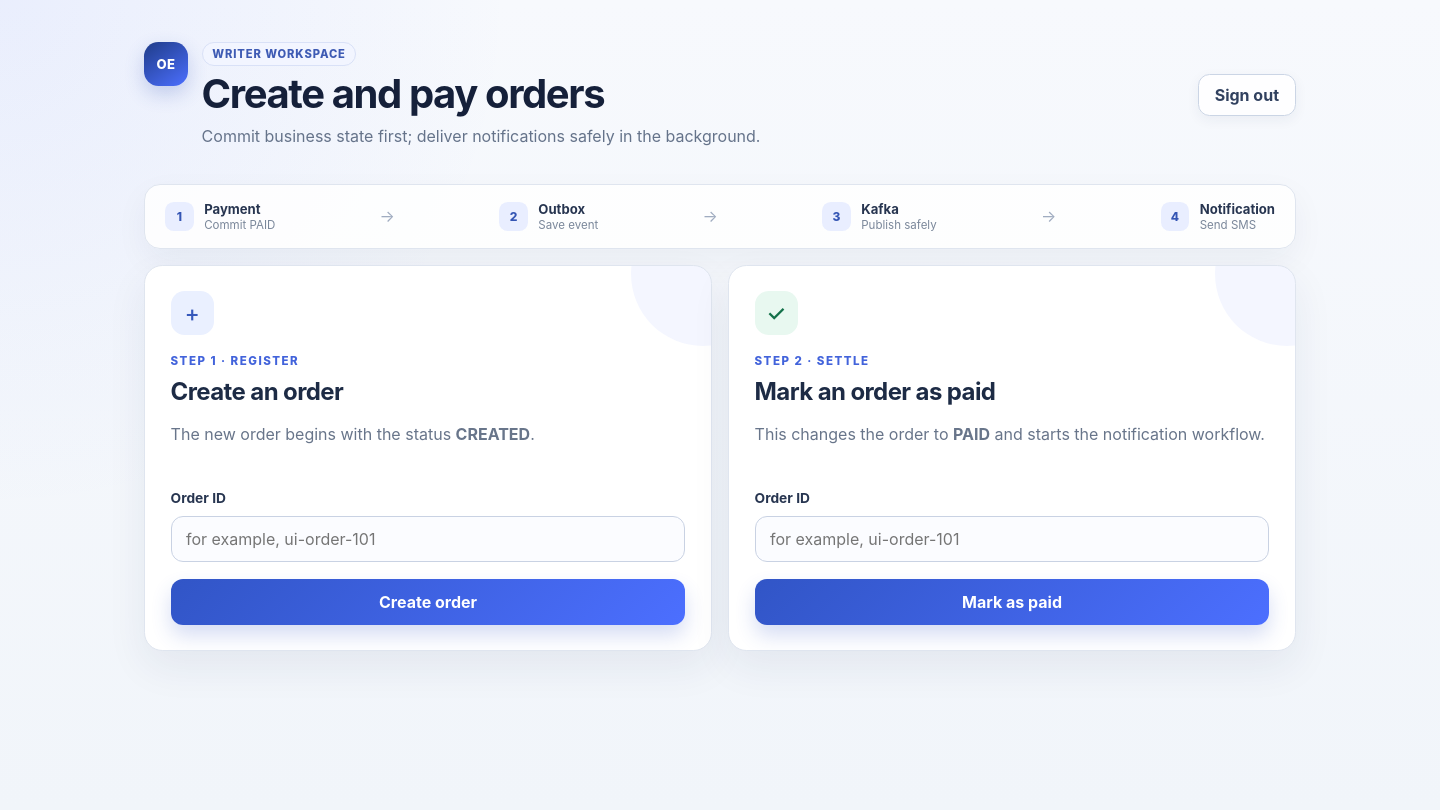
Test case: WriterWorkspace › marks an order as paid and explains that notification is asynchronous
This screenshot has width=1440, height=810.
In the field labelled "Order ID" below "This changes the order to": (1012,539) [755,516,1269,562], type "writer-order-101"
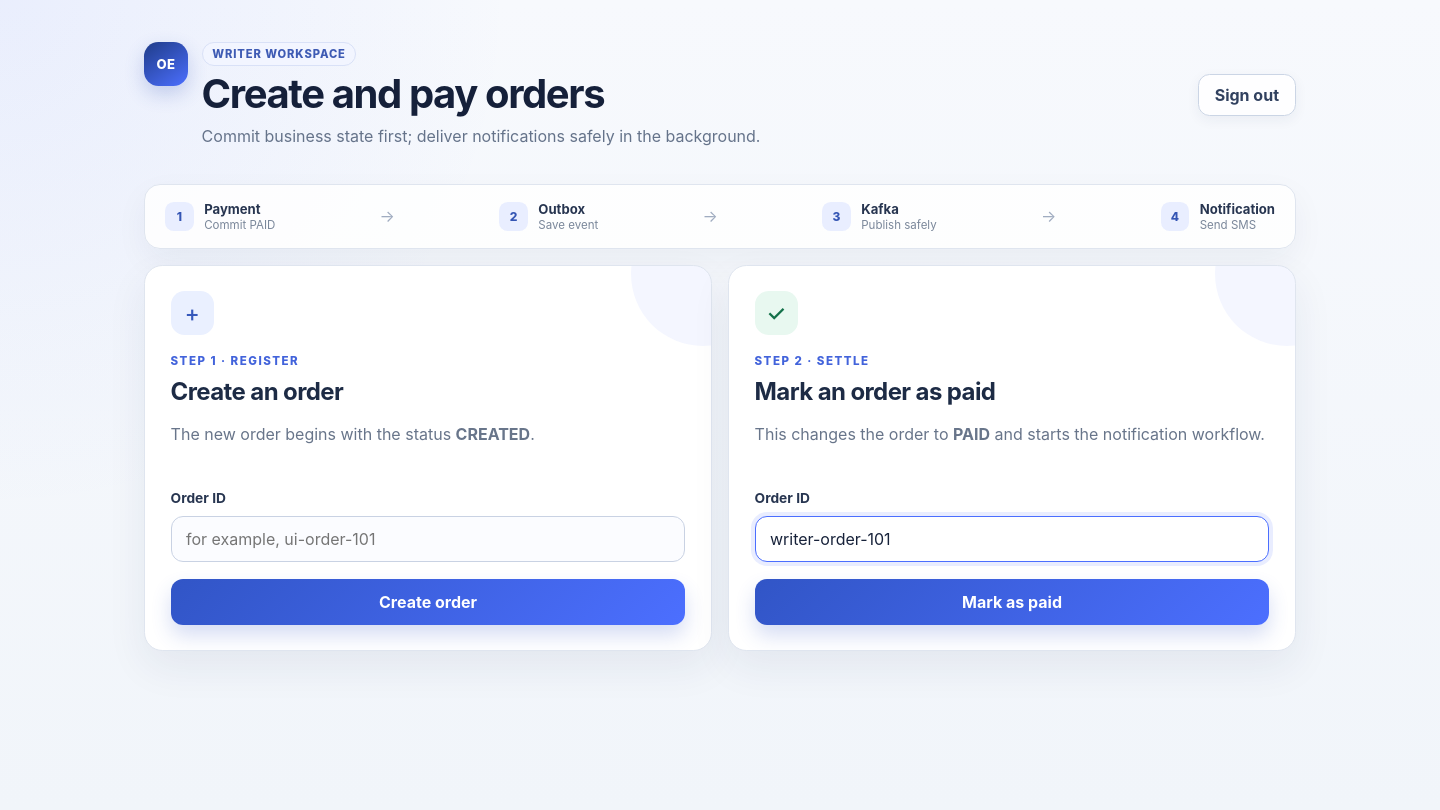
Click the button "Mark as paid": (1012,602) [755,579,1269,625]
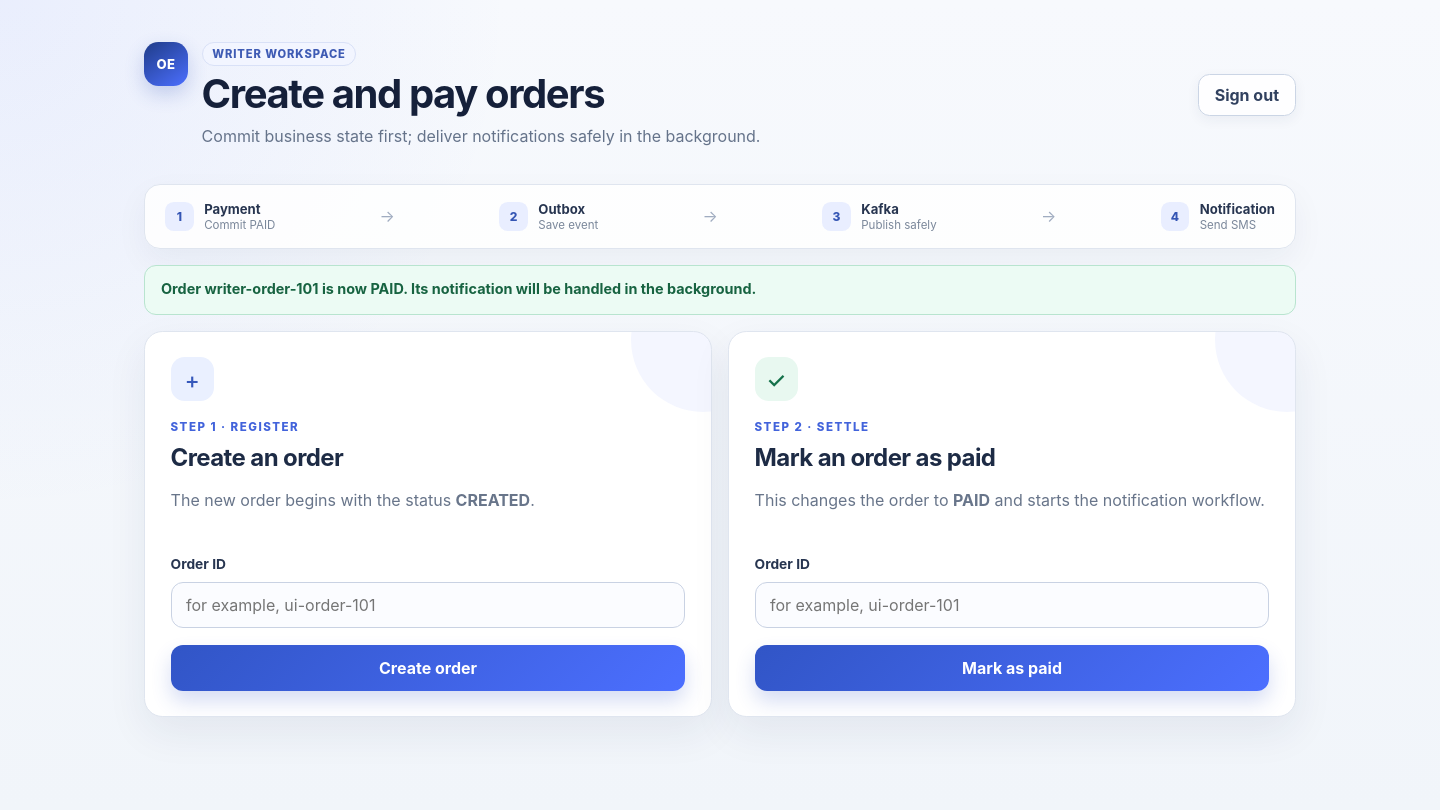
Check: the text "Order writer-order-101 is now PAID. Its notification will be handled in the background." is shown, box [161,280,756,297]
